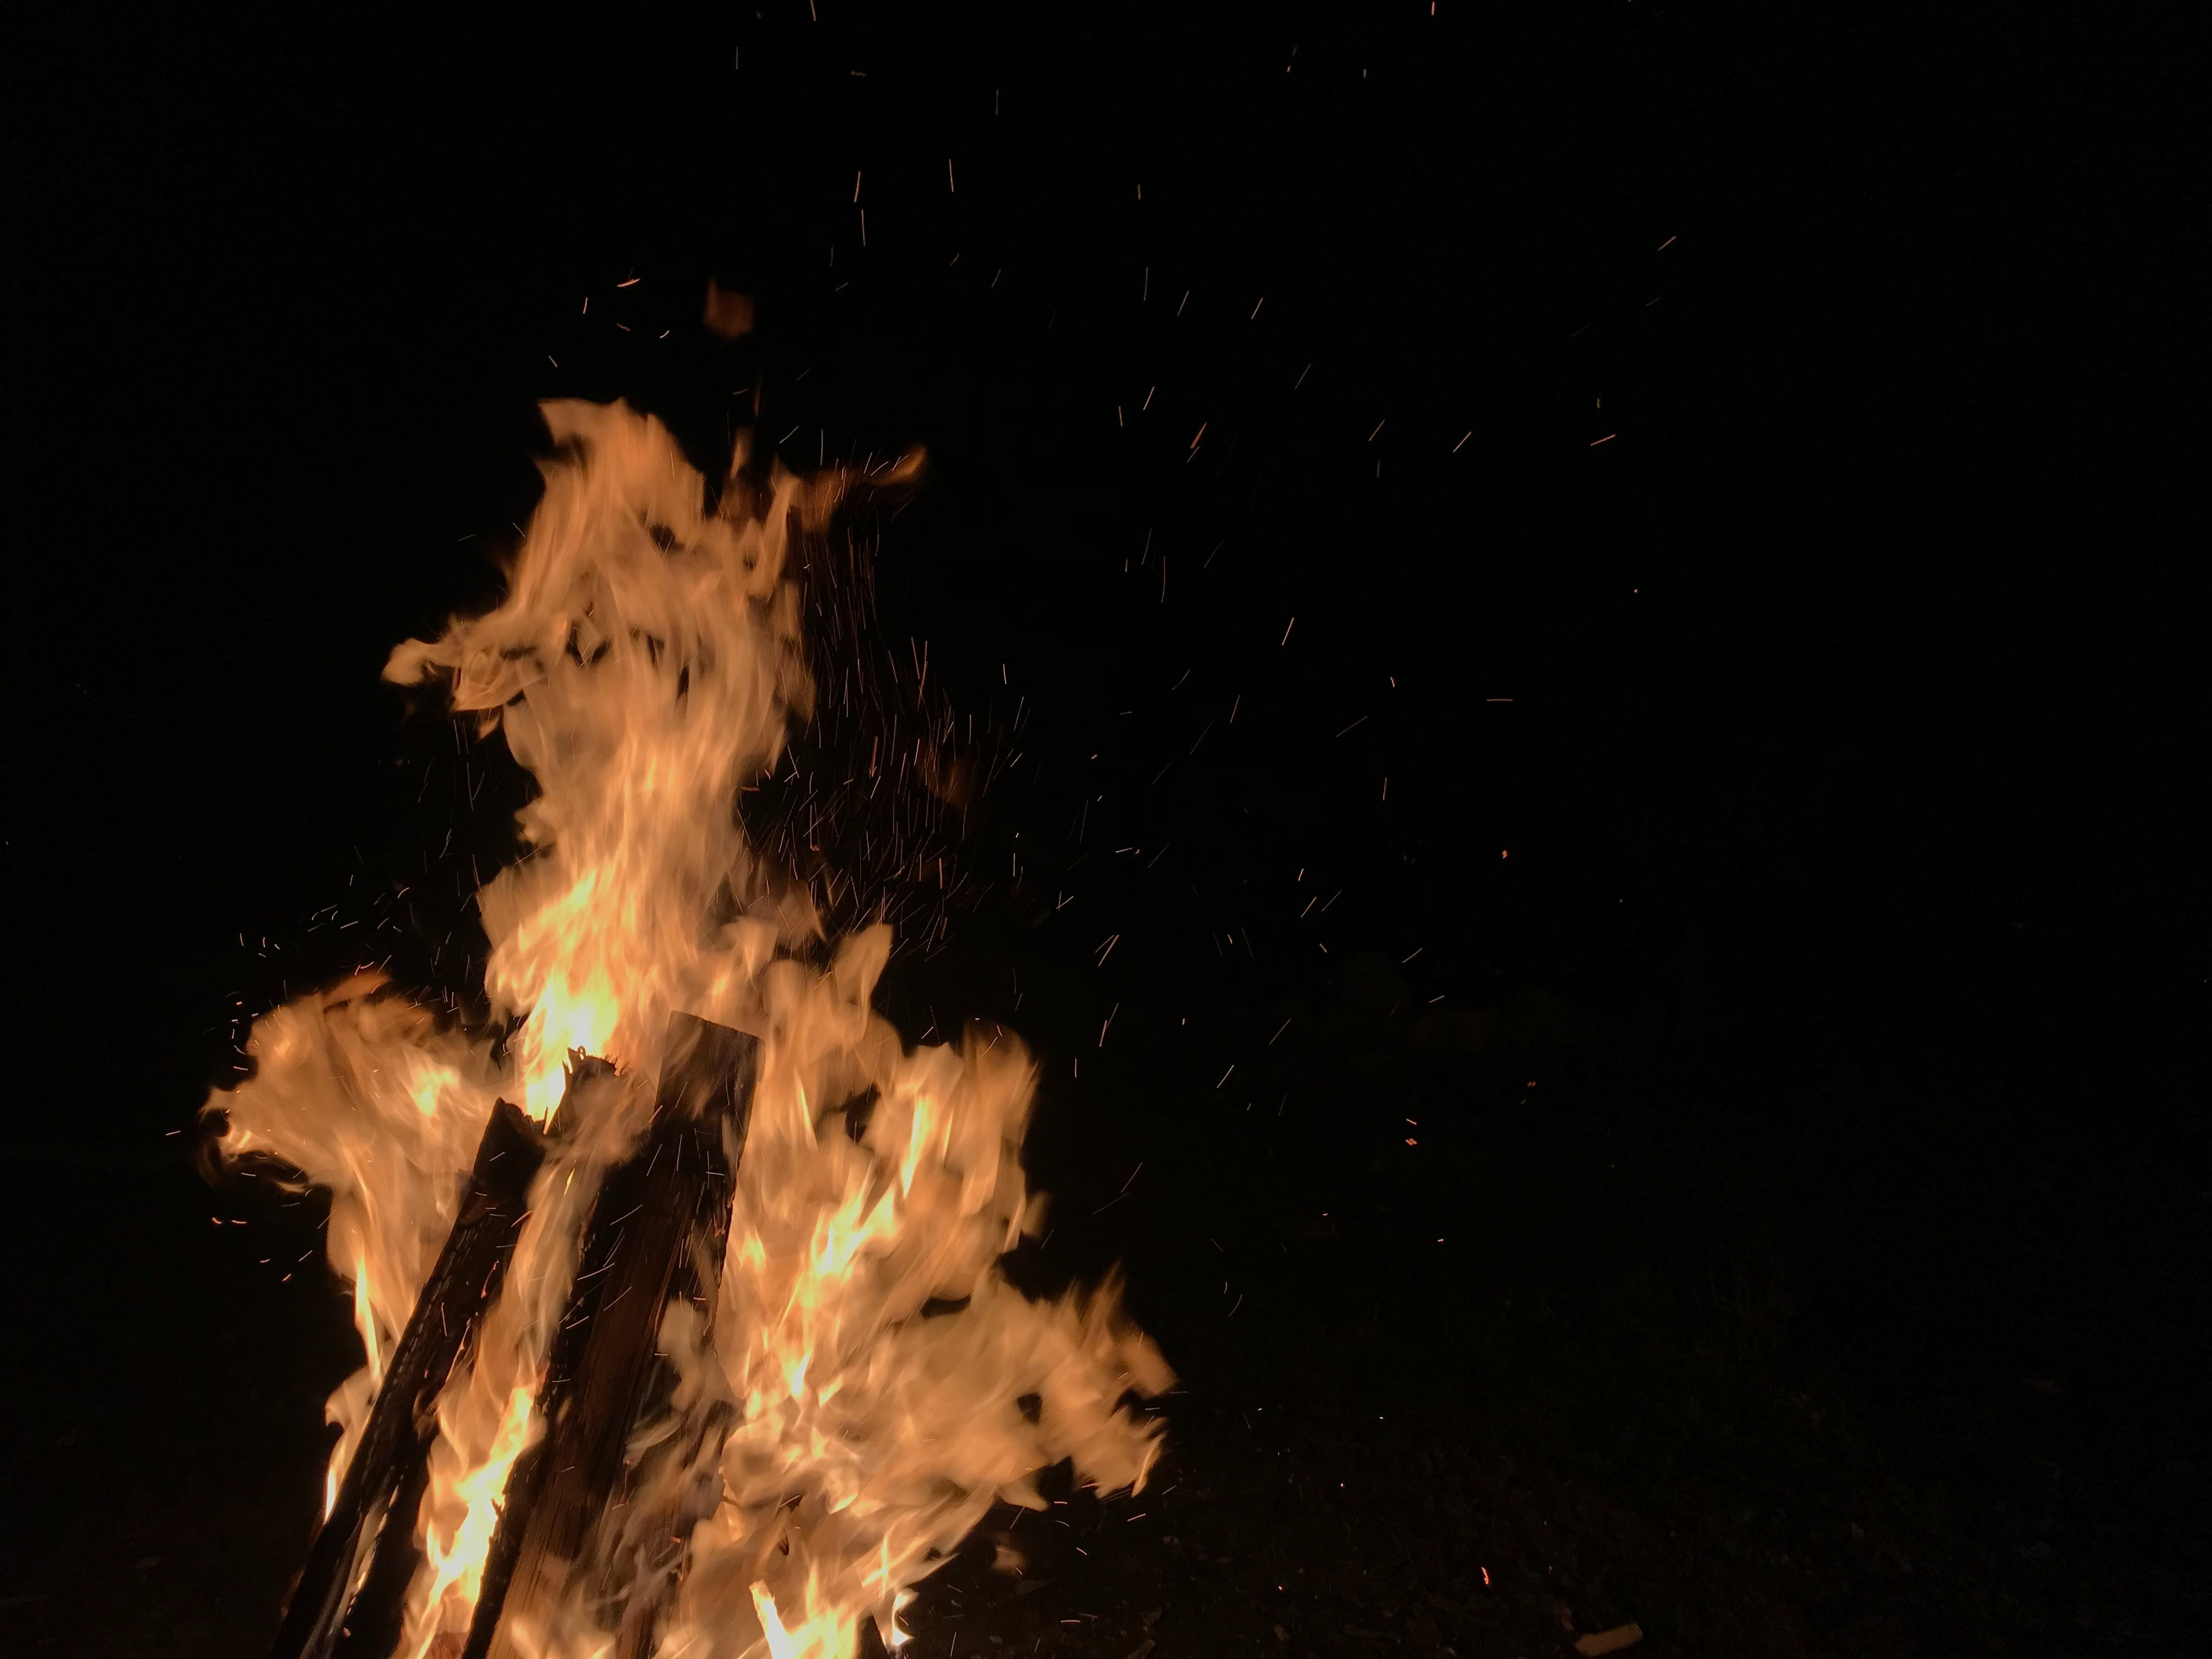fire: (249, 308, 1183, 1635)
